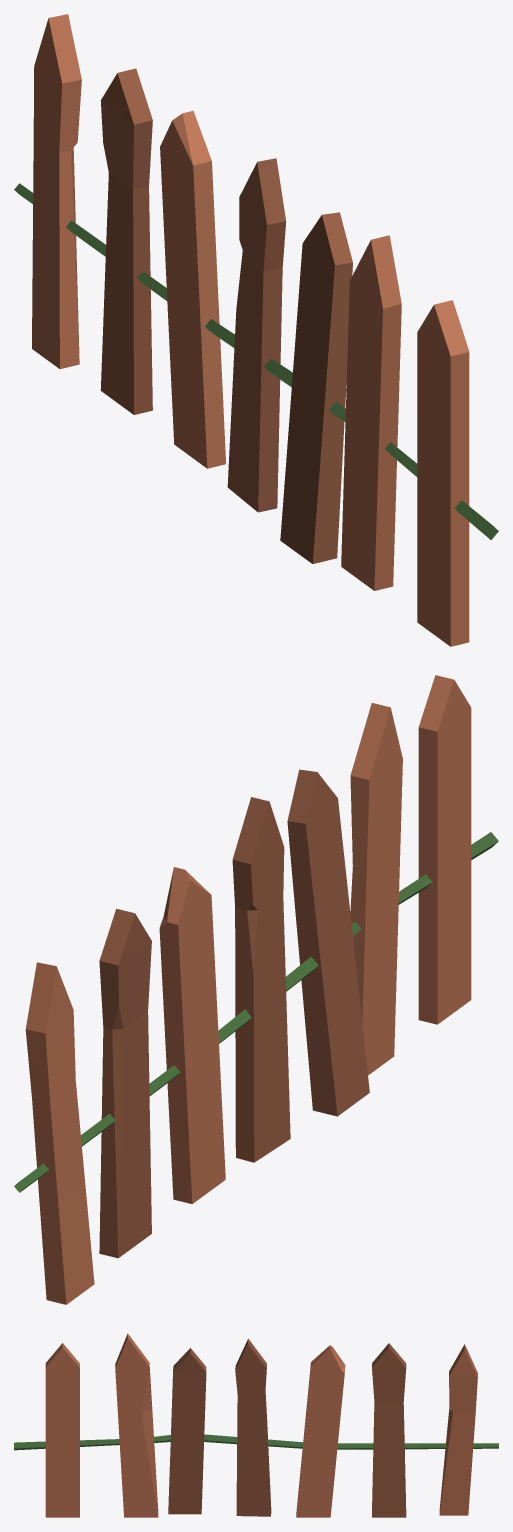
Rendered from Fence_2_1 Village.fbx.
The picture shows the model from 3 angles, top to bottom: view 1: azimuth 30°, elevation 25°; view 2: azimuth 150°, elevation 25°; view 3: azimuth 270°, elevation 25°; orthographic projection. The views are drawn at different scales.
Parts seen in each view (by area): view 1: Fence_2_1; view 2: Fence_2_1; view 3: Fence_2_1.
Part boxes in pixels (x1,y1,x2,y2): Fence_2_1: [14, 14, 498, 646]; Fence_2_1: [14, 675, 498, 1304]; Fence_2_1: [14, 1333, 498, 1517].
Bounding box in the file's own units: 0.1815 × 1.24 × 3.03.
